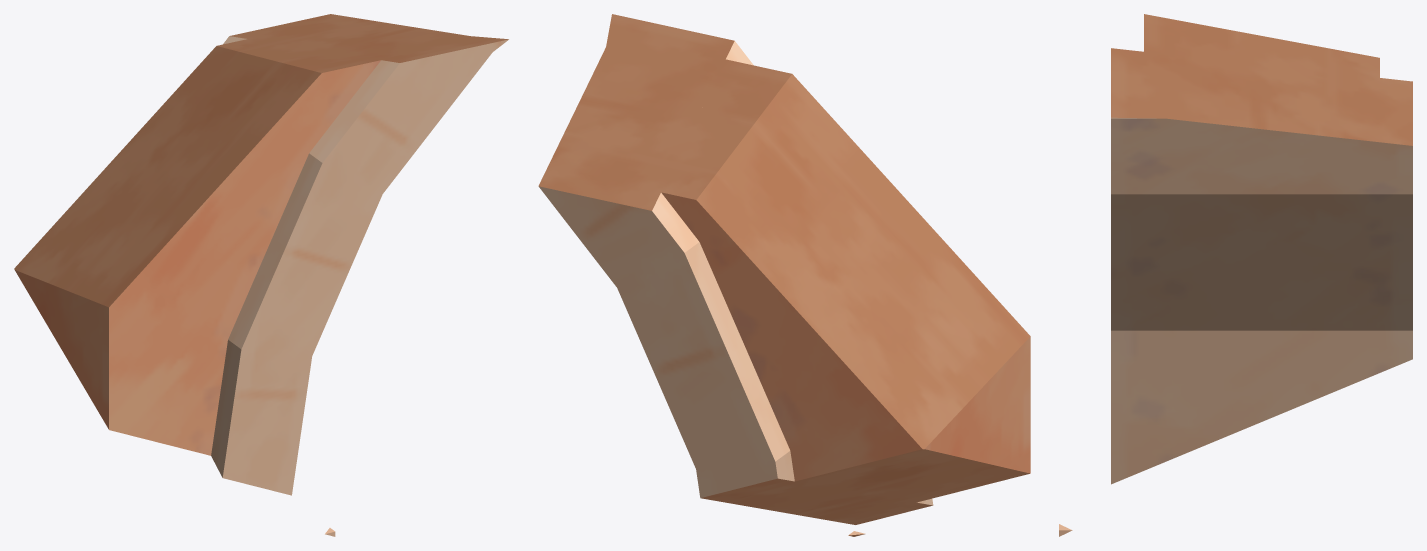
File: wall2_arcade_s05.fbx
3 views of the same model, side by side, from view 1: azimuth 30°, elevation 25°; view 2: azimuth 150°, elevation 25°; view 3: azimuth 270°, elevation 25° (orthographic). The views are drawn at different scales.
Parts seen in each view (by area): view 1: wall2_arcade_s05; view 2: wall2_arcade_s05; view 3: wall2_arcade_s05.
Boxes of the visible parts, left/top/right/bottom form: wall2_arcade_s05: left=14, top=14, right=508, bottom=536; wall2_arcade_s05: left=538, top=14, right=1030, bottom=536; wall2_arcade_s05: left=1059, top=14, right=1412, bottom=536.
Bounding box in the file's own units: 2.34 × 2.53 × 1.5.
